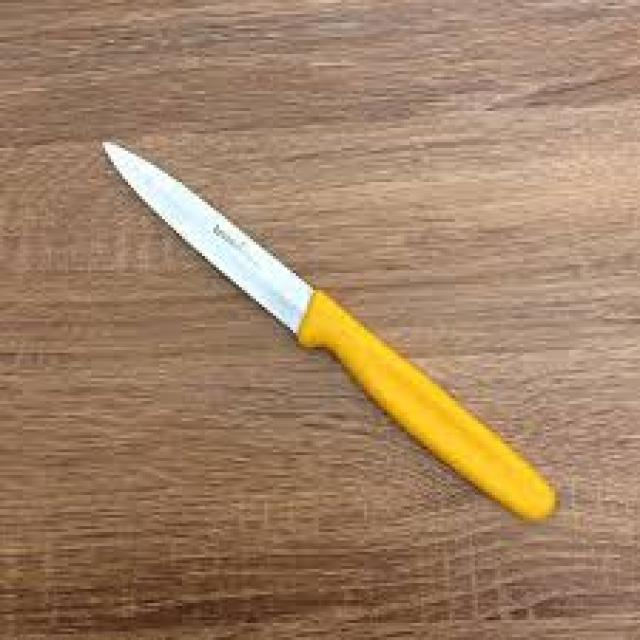Knife: (69, 96, 578, 554)
